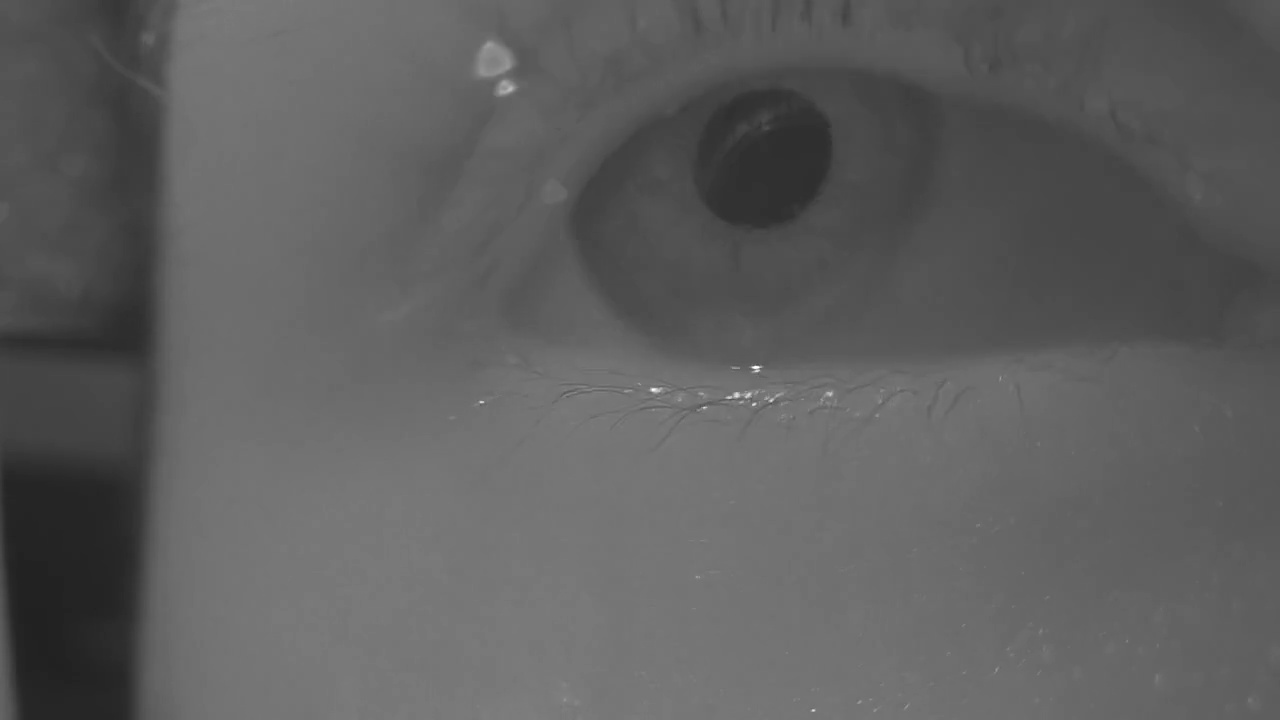pupil: (696, 88, 834, 227)
